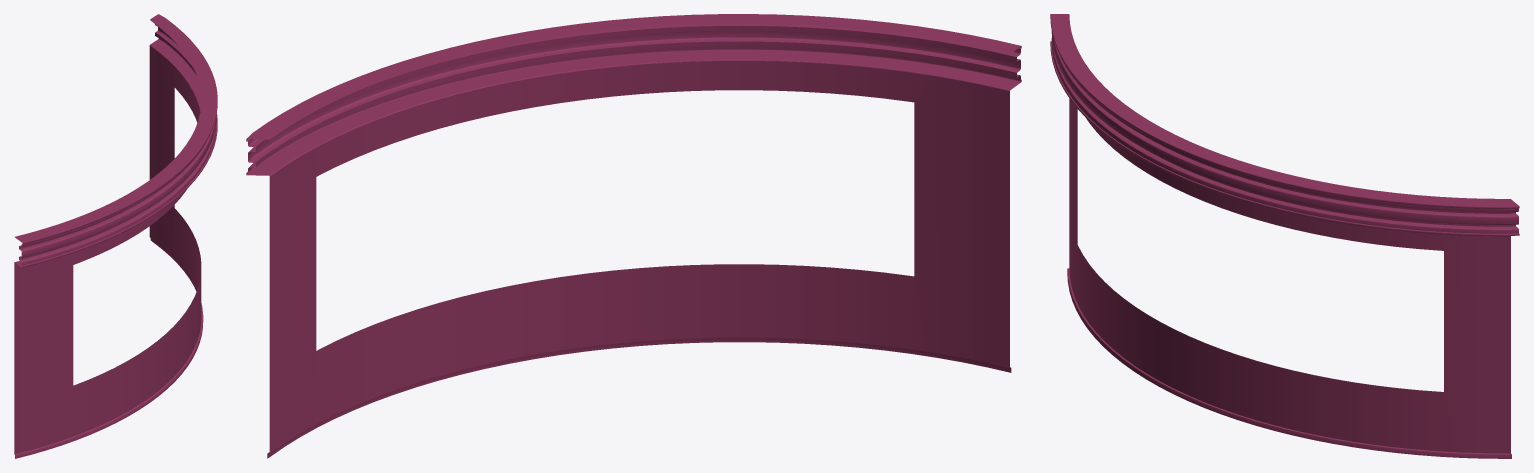
File: GS_Ext_Side_Wall_Window.fbx
3 renders of one model, left to right at view 1: azimuth 30°, elevation 25°; view 2: azimuth 150°, elevation 25°; view 3: azimuth 270°, elevation 25°, orthographic. The views are drawn at different scales.
Parts seen in each view (by area): view 1: GS_Ext_Side_Wall_Window; view 2: GS_Ext_Side_Wall_Window; view 3: GS_Ext_Side_Wall_Window.
Part boxes in pixels (box(x1,y1,x2,y2)): GS_Ext_Side_Wall_Window: box(14, 14, 217, 458); GS_Ext_Side_Wall_Window: box(246, 14, 1021, 458); GS_Ext_Side_Wall_Window: box(1050, 14, 1519, 458).
Size of the model in its own units: 646 by 404 by 663.
